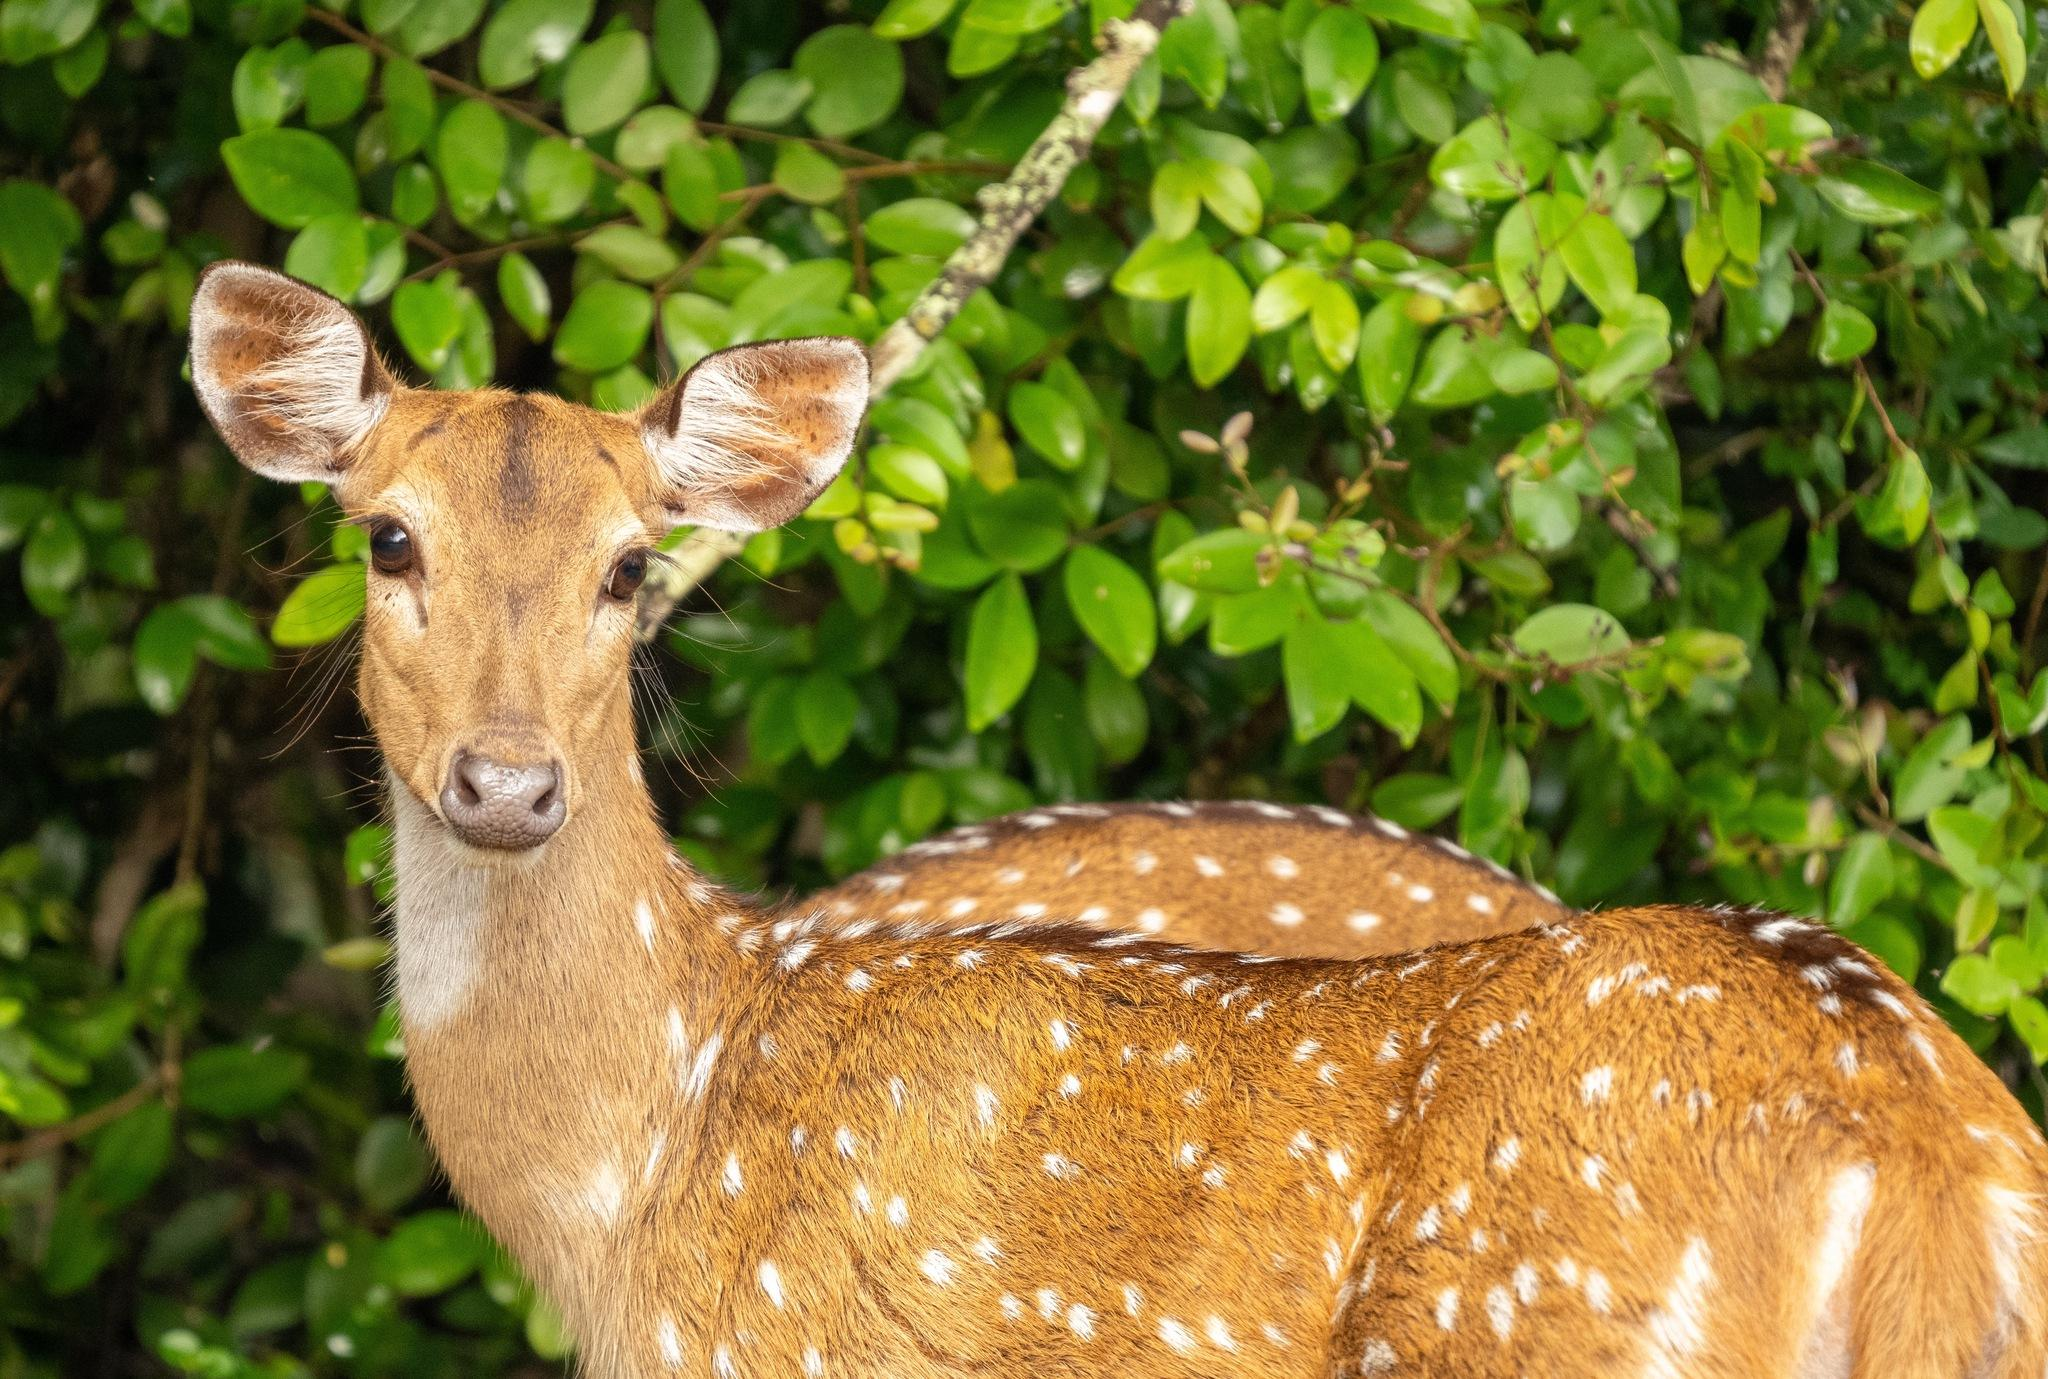Deer: (189, 263, 2046, 1374)
